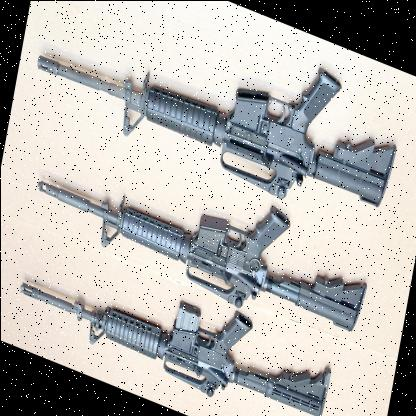rifle: (29, 0, 405, 245), (30, 118, 374, 354), (13, 232, 334, 416)
